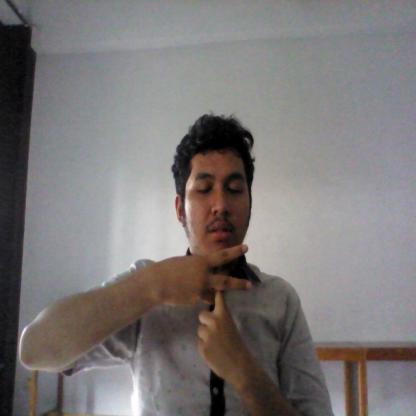F: (164, 244, 254, 378)
